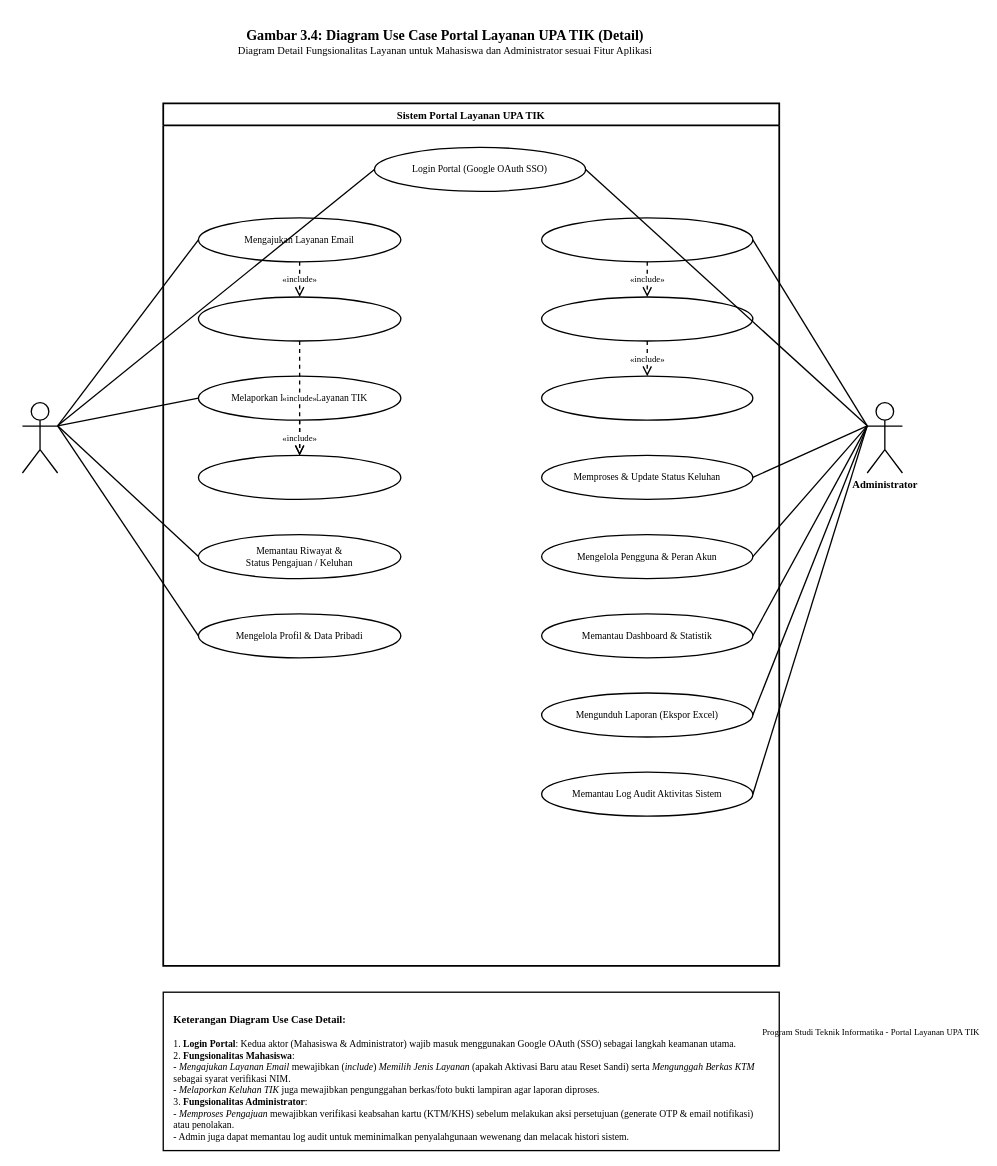
This 997x1166 diagram has some shape labels left out. The shapes that lost their labels are listed below. From the top down, each one's box as (x1, y1, x2, y2) in pixels, then its label:
(541, 217, 753, 262): Memproses Pengajuan Email & Reset
(197, 296, 401, 341): Memilih Layanan (Aktivasi Baru / Reset Sandi)
(541, 296, 753, 341): Verifikasi Keabsahan KTM / KHS
(541, 375, 753, 420): Menyetujui (OTP/Link) / Menolak Pengajuan
(21, 402, 58, 473): Mahasiswa
(197, 454, 401, 500): Mengunggah Berkas / Foto KTM
